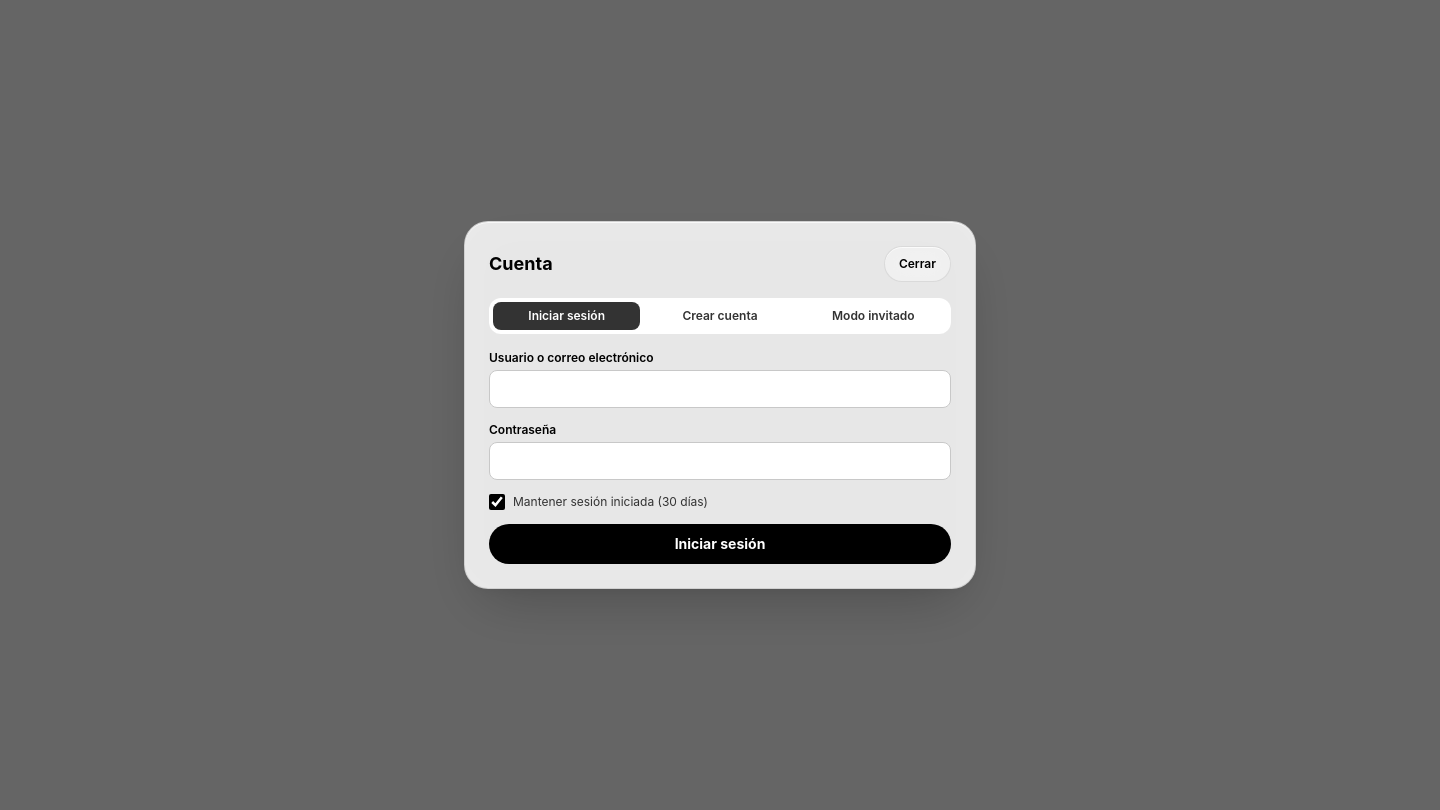
Test: UI Components Security & Input Validation › rejects XSS and non-UUID payloads in AccountModal guest device recovery tab
Later steps or results of the test are not shown.
Click the tab "Modo invitado".
click(873, 316)  # box x1=800 y1=302 x2=947 y2=330
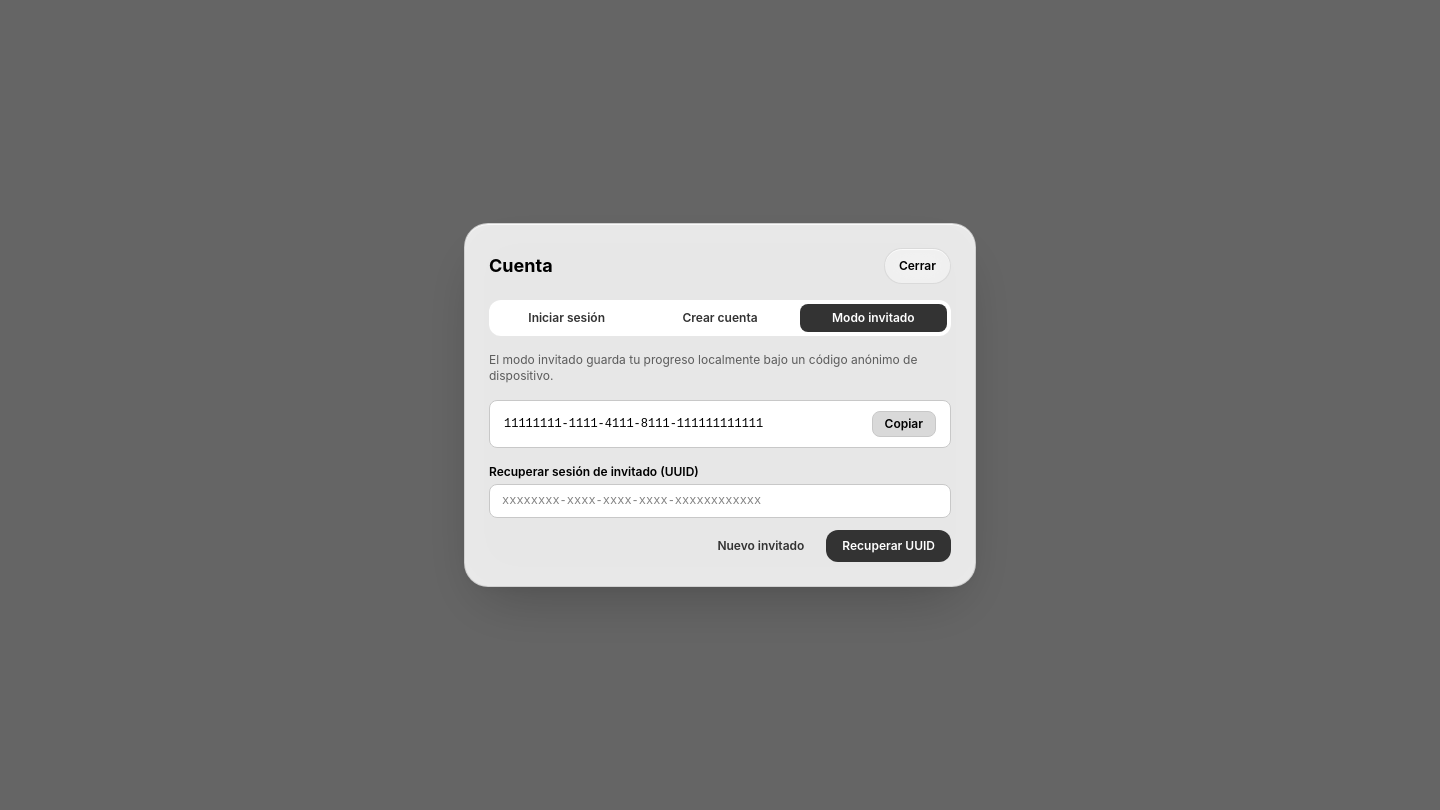
Type "<script>alert(1)</script>" into the field labelled "Recuperar sesión de invitado (UUID)".
click(720, 501); type("<script>alert(1)</script>")  # box x1=489 y1=484 x2=951 y2=518
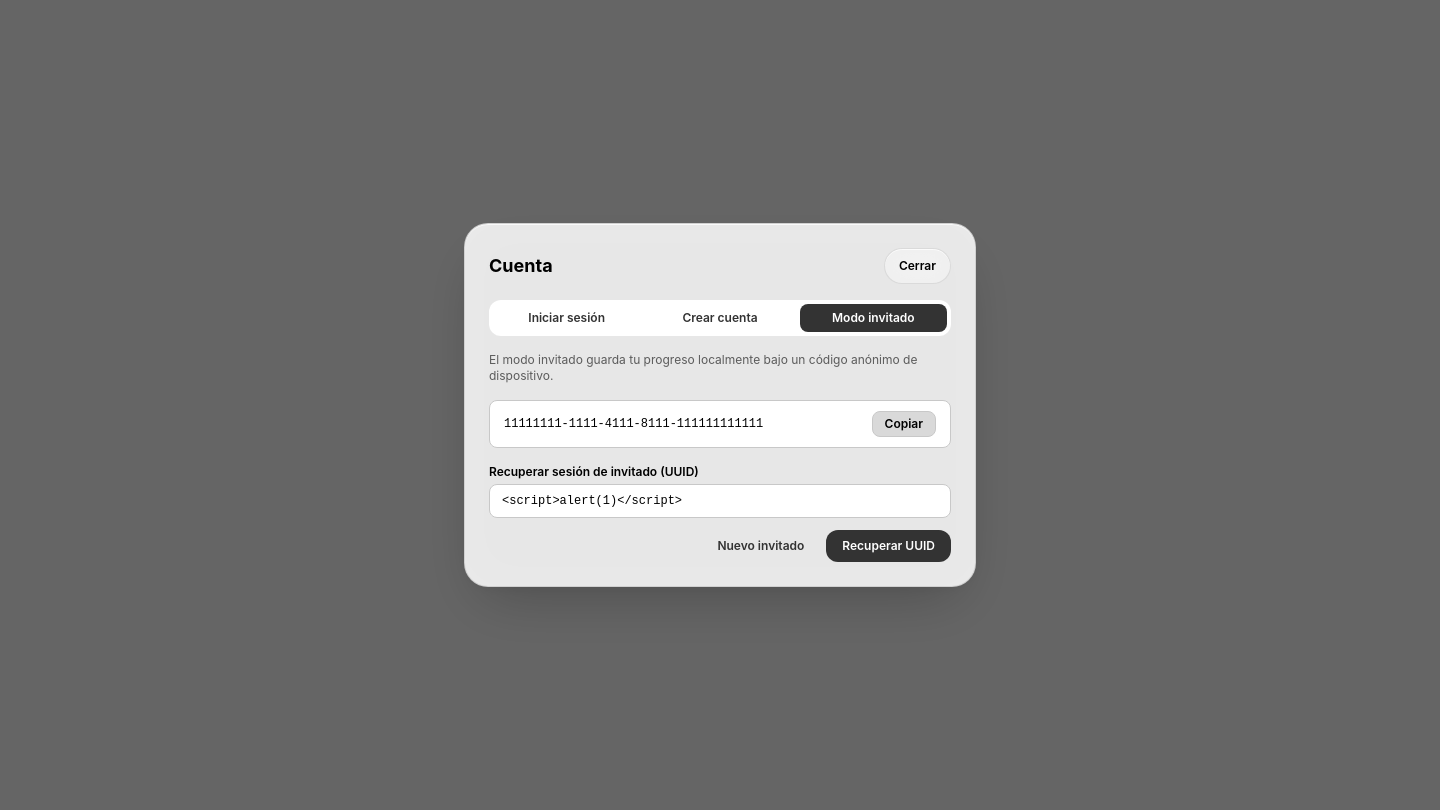
Click the button "Recuperar UUID".
click(889, 546)  # box x1=826 y1=530 x2=951 y2=562
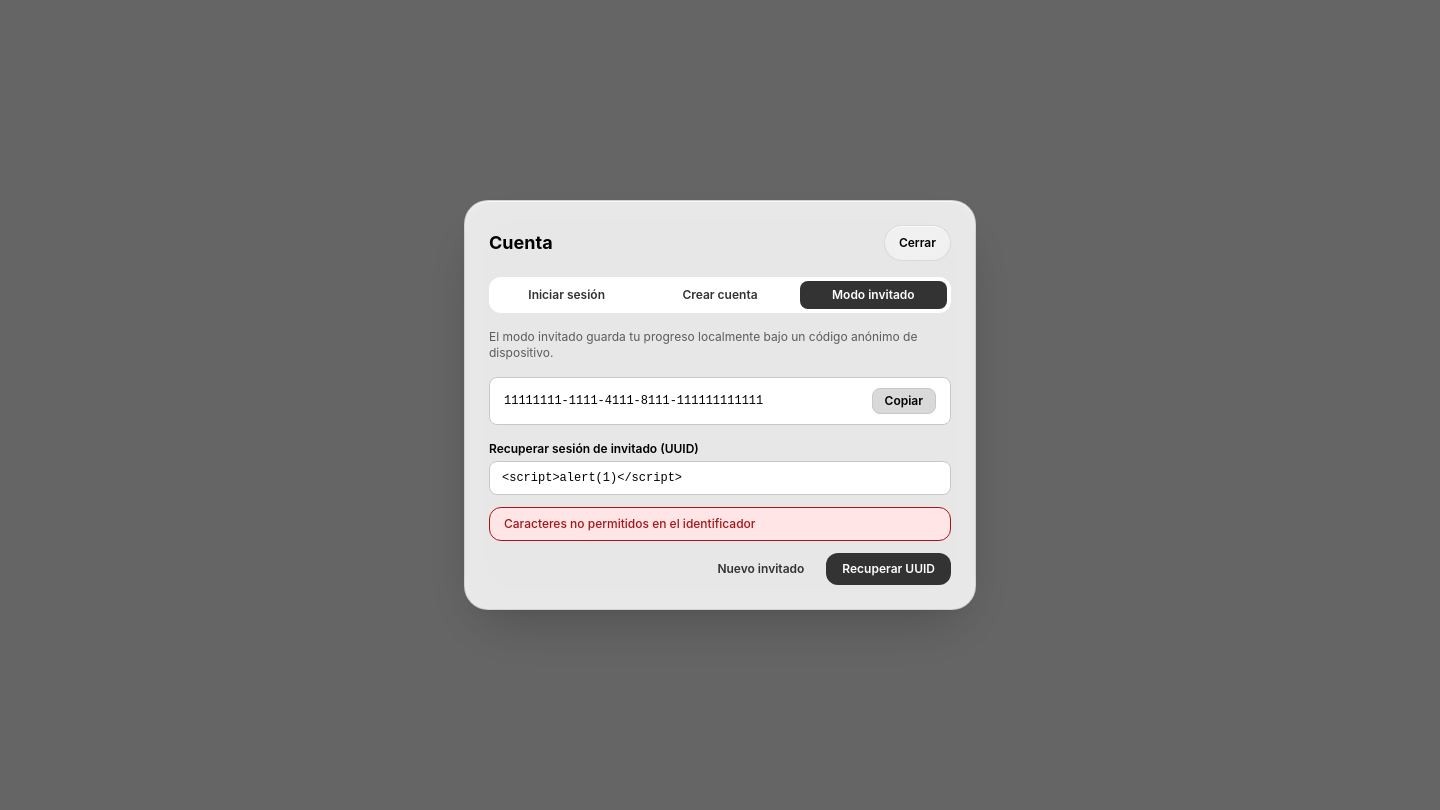
Check: the message shows "Caracteres no permitidos", box x1=504 y1=516 x2=756 y2=531
